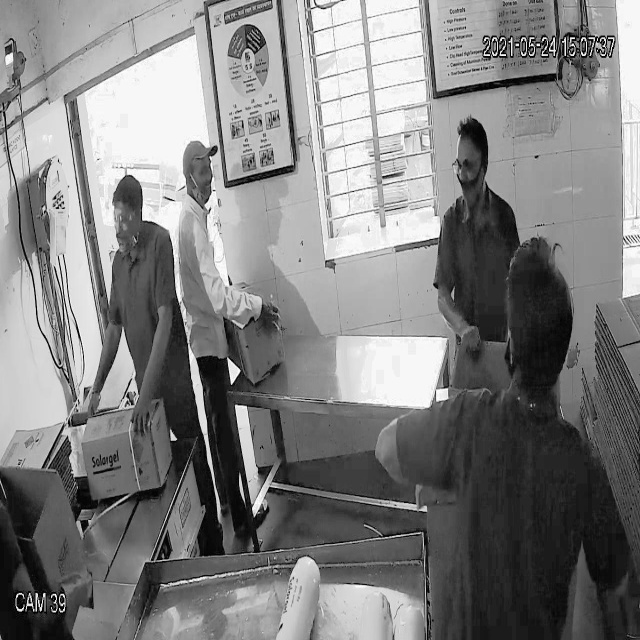Gafas: (452, 154, 485, 181), (111, 204, 144, 231)
